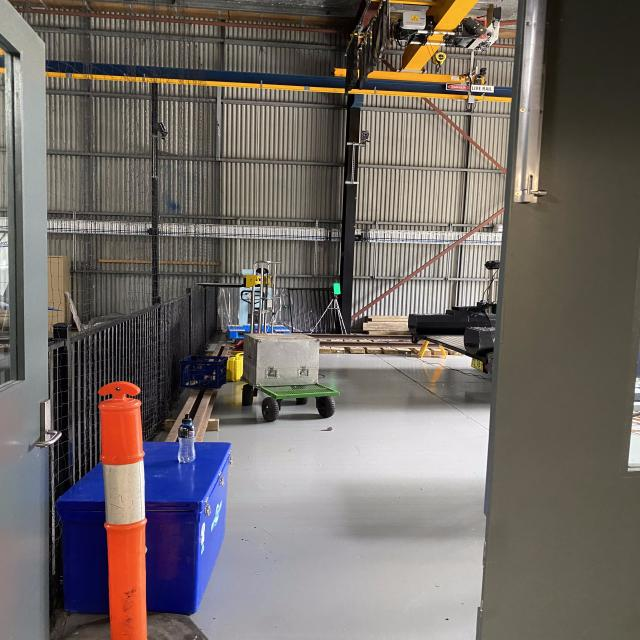matrix: (332, 282, 342, 296)
